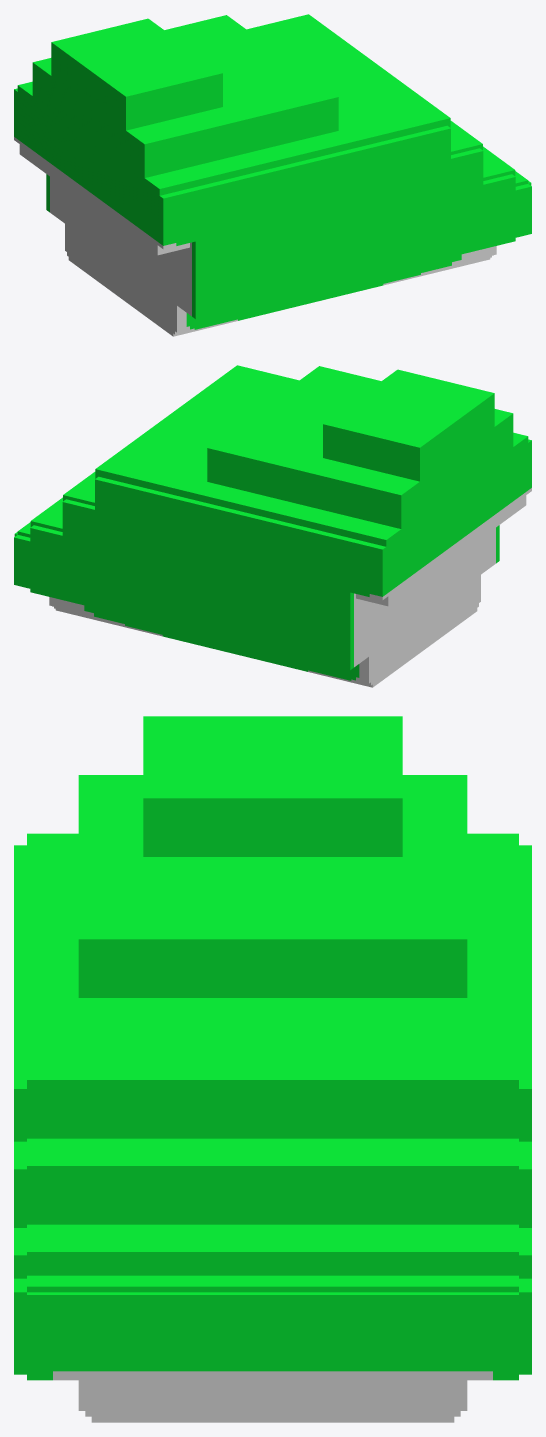
Rendered from flog2-3.obj.
The picture shows the model from 3 angles, top to bottom: view 1: azimuth 30°, elevation 25°; view 2: azimuth 150°, elevation 25°; view 3: azimuth 270°, elevation 25°; orthographic projection. The views are drawn at different scales.
Bounding box in the file's own units: 11.5 × 7 × 8.
Materials: 1 (1 with a texture image).
